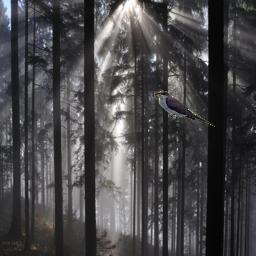Cuckoo: (154, 91, 215, 128)
